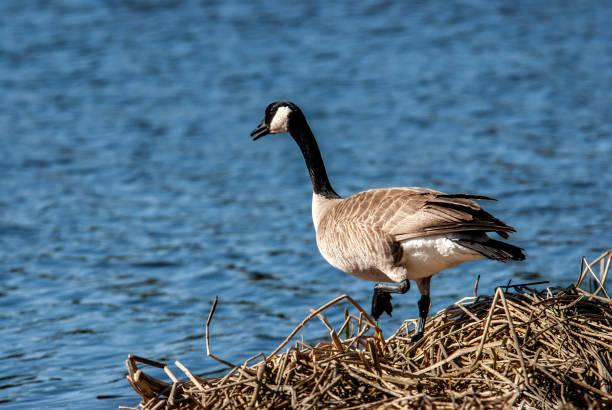Canadian-Goose: (249, 97, 521, 312)
